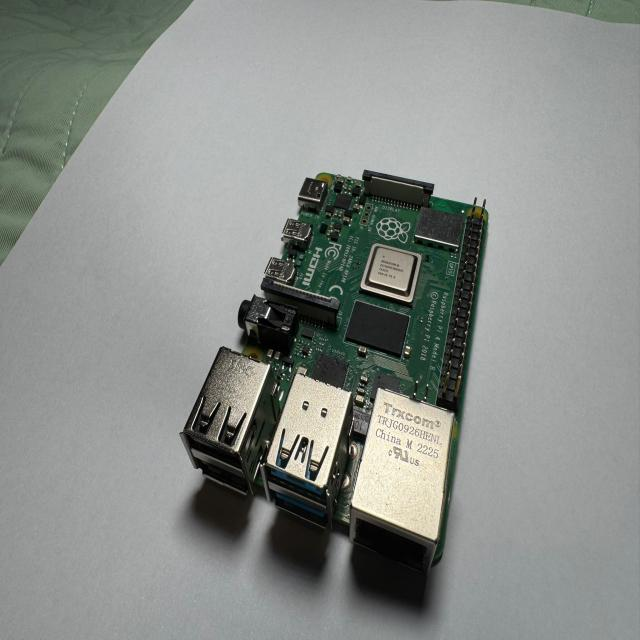CPU: (360, 244, 424, 308)
Ethernet: (354, 391, 454, 566)
GPIO: (436, 198, 489, 413)
RAM: (346, 295, 414, 360)
Raspberry: (181, 171, 489, 609)
micro-hdmi: (262, 220, 310, 289), (282, 218, 313, 258)
